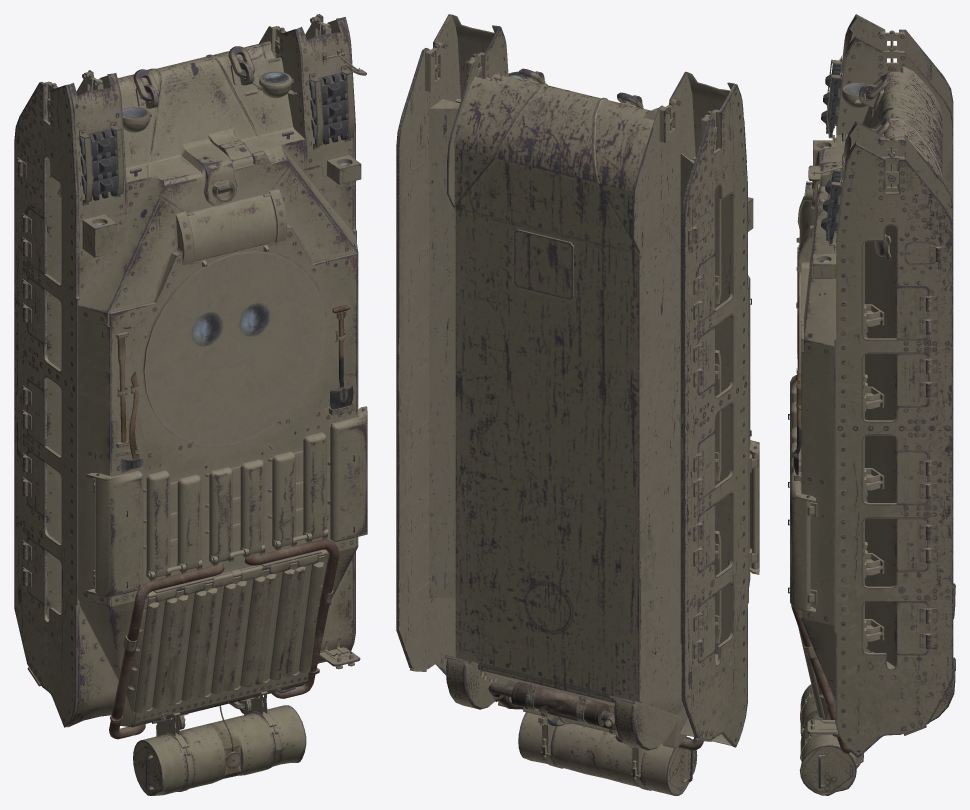
File: Hull.glb
3 views of the same model, side by side, from view 1: azimuth 30°, elevation 25°; view 2: azimuth 150°, elevation 25°; view 3: azimuth 270°, elevation 25° (orthographic). The views are drawn at different scales.
Parts seen in each view (by area): view 1: set_0_group_0; view 2: set_0_group_0; view 3: set_0_group_0.
Part boxes in pixels (box(x1,y1,x2,y2)): set_0_group_0: box(14, 14, 367, 795); set_0_group_0: box(396, 14, 759, 795); set_0_group_0: box(788, 14, 955, 795).
Bounding box in the file's own units: 2.59 × 6.17 × 1.37.
1 material, 1 textured.
